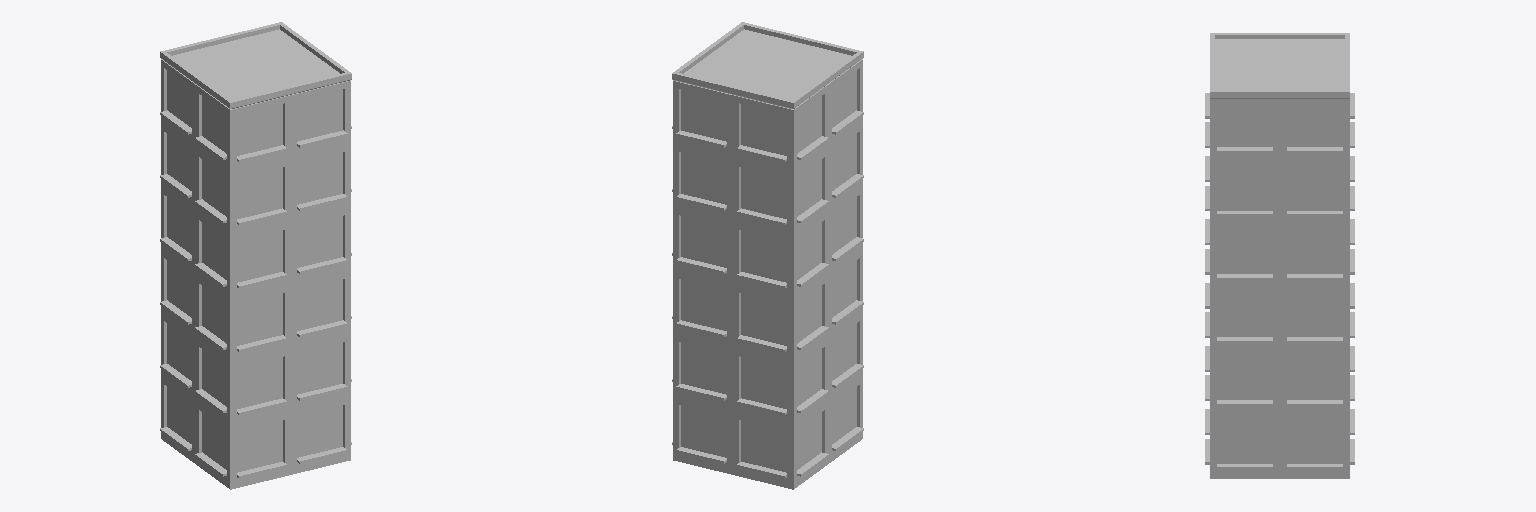
File: placeholder building.obj
The picture shows the model from 3 angles: view 1: azimuth 30°, elevation 25°; view 2: azimuth 150°, elevation 25°; view 3: azimuth 270°, elevation 25°; orthographic projection.
Visible parts, largest first — view 1: Plane; view 2: Plane; view 3: Plane.
Boxes of the visible parts, box(x1,y1,x2,y2) form: Plane: box(160, 22, 351, 489); Plane: box(672, 22, 863, 489); Plane: box(1205, 33, 1354, 478).
Size of the model in its own units: 2.14 by 6.12 by 2.14.